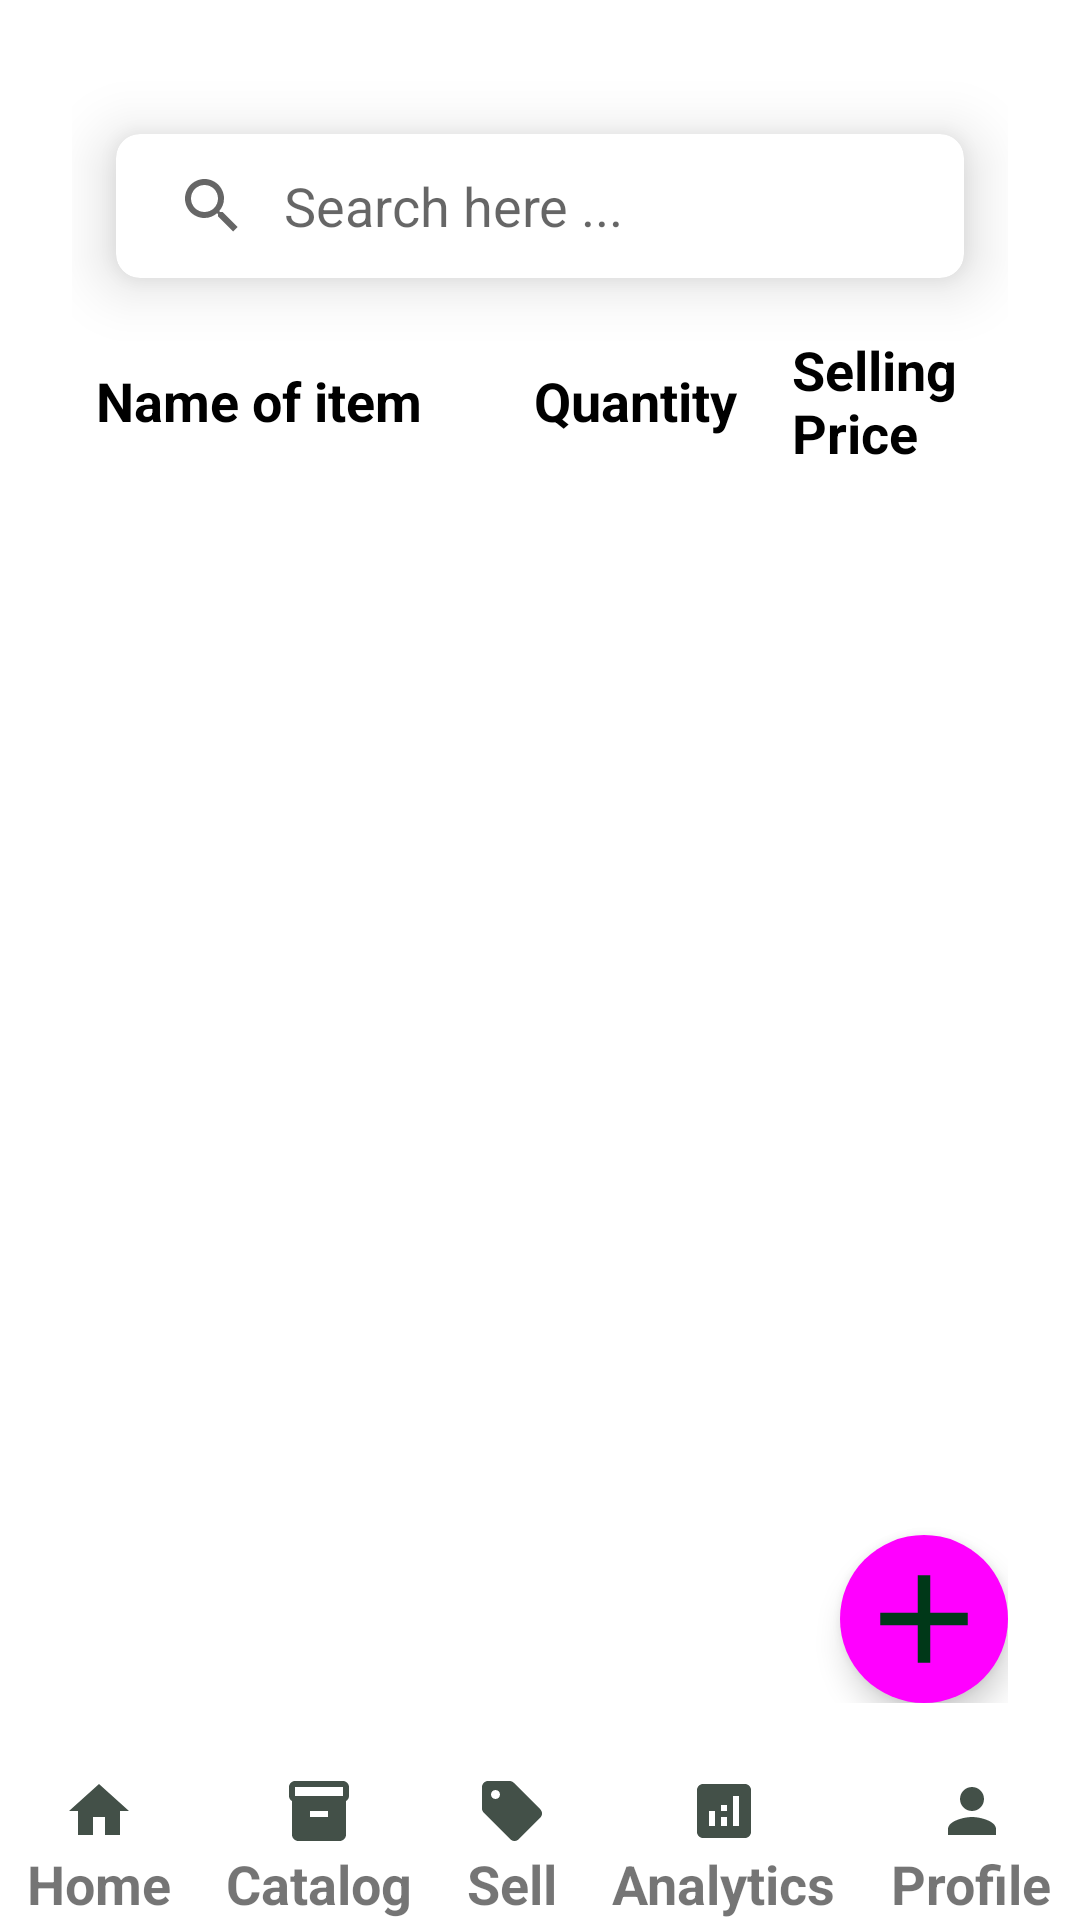

Named icons in this screenshot (1080px x 1920px) and their centers, (x=x, y=y):
Add Product: (x=924, y=1619)
inventory: (x=319, y=1811)
